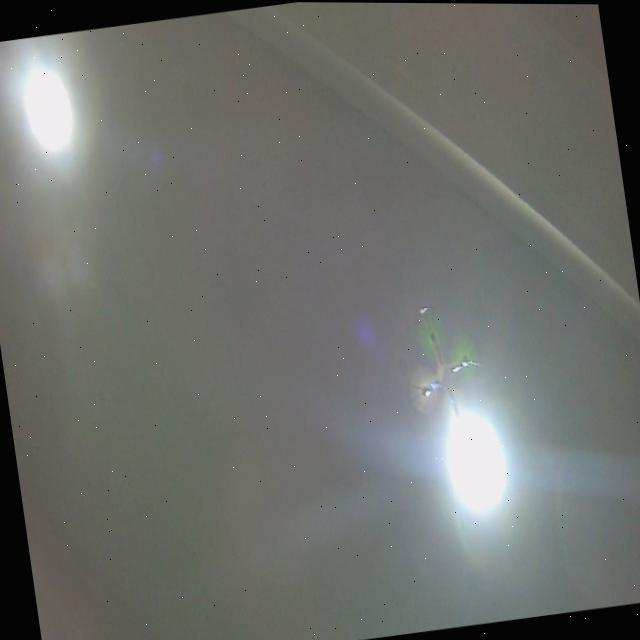drone: (389, 295, 500, 454)
